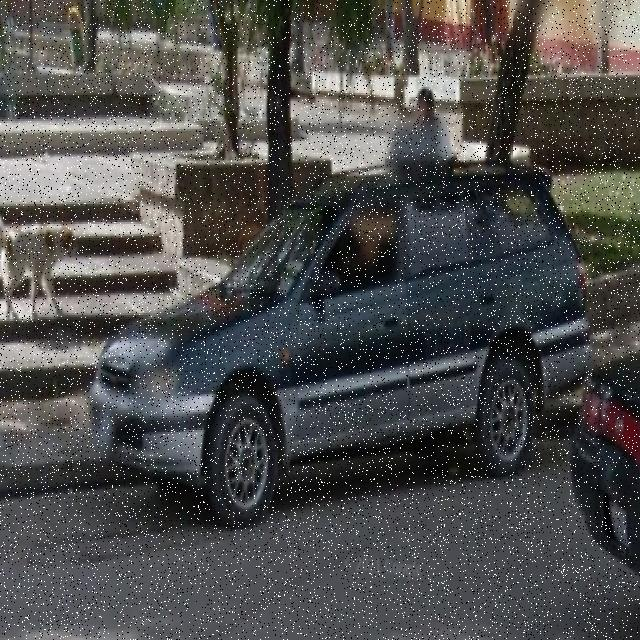cars: (86, 168, 593, 514)
